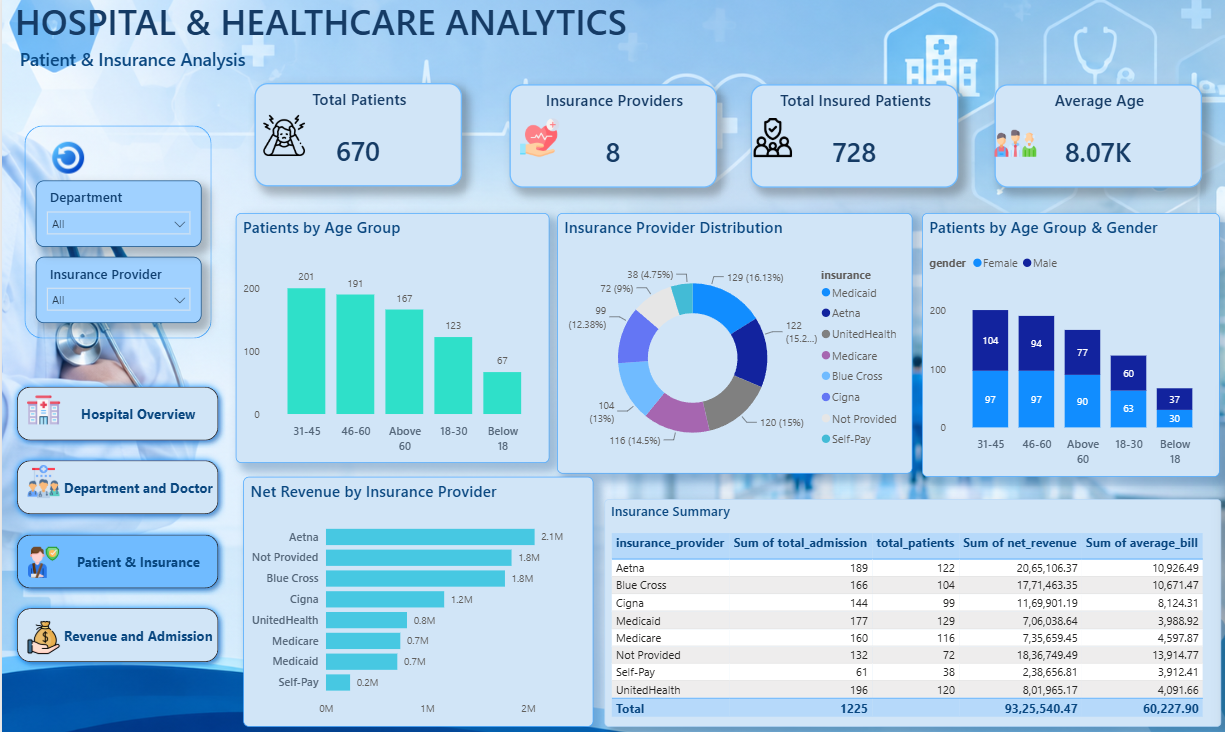

Layout of this report page (visuals, bound fields, positions):
{"tool":"powerbi","page":{"name":"Patient & Insurance","canvas":[1480,900],"ordinal":2},"visuals":[{"type":"shape","box":[27.1,160,225.7,257.1],"z":0},{"type":"textbox","box":[10.6,0,754.5,85],"z":1000},{"type":"textbox","box":[10.6,60.6,293.9,48.5],"z":2000},{"type":"cardVisual","title":"Total Patients","fields":{"Data":["hospital_overview admission.Total Patients"]},"box":[304.5,109.1,250,125],"z":3000},{"type":"cardVisual","title":"Insurance Providers","fields":{"Data":["hospital_overview admission.Total Insurance Providers"]},"box":[612.1,110.6,250,125],"z":4000},{"type":"cardVisual","title":"Total Insured Patients","fields":{"Data":["hospital_overview admission.Insured Patients"]},"box":[903,110.6,250,125],"z":5000},{"type":"cardVisual","title":"Average Age","fields":{"Data":["hospital_overview admission.Average Bill"]},"box":[1197,110.6,250,125],"z":6000},{"type":"clusteredColumnChart","title":"Patients by Age Group","fields":{"Category":["hospital_overview age_group.age_group"],"Y":["Sum(hospital_overview age_group.total_patients)"]},"box":[281.4,265.7,378.8,301.5],"z":7000},{"type":"donutChart","title":"Insurance Provider Distribution","fields":{"Category":["hospital_overview insurance_by_patients.insurance"],"Y":["Sum(hospital_overview insurance_by_patients.total_patients)"]},"box":[669.7,265.2,428.8,314],"z":8000},{"type":"columnChart","title":"\tPatients by Age Group & Gender","fields":{"Category":["hospital_overview age_group_and_gender.age_group"],"Y":["Sum(hospital_overview age_group_and_gender.total_patients)"],"Series":["hospital_overview age_group_and_gender.gender"]},"box":[1110.6,265.2,359.1,318.2],"z":9000},{"type":"barChart","title":"\tNet Revenue by Insurance Provider","fields":{"Category":["hospital_overview revenue_by_insurance.insurance"],"Y":["Sum(hospital_overview revenue_by_insurance.net_revenue)"]},"box":[291.4,584.3,422.7,301.5],"z":10000},{"type":"tableEx","title":"Insurance Summary","fields":{"Values":["hospital_overview insurance_details.insurance_provider","Sum(hospital_overview insurance_details.total_admission)","hospital_overview insurance_details.total_patients","Sum(hospital_overview insurance_details.net_revenue)","Sum(hospital_overview insurance_details.average_bill)"]},"box":[727.1,611.4,743.9,274.2],"z":11000},{"type":"pageNavigator","box":[8.6,465.7,261.4,350],"z":12000},{"type":"image","box":[315.2,147,50,51.5],"z":13000},{"type":"image","box":[612.1,151.5,72.7,47],"z":14000},{"type":"image","box":[886.4,151.5,86.4,47],"z":15000},{"type":"image","box":[1197,151.5,50,60.6],"z":16000},{"type":"slicer","fields":{"Values":["hospital_overview patient.insurance"]},"box":[40,318.6,200,80],"z":17000},{"type":"slicer","fields":{"Values":["hospital_overview admission.dept"]},"box":[40,225.7,200,80],"z":18000},{"type":"image","box":[30,475.7,40,55.7],"z":19000},{"type":"image","box":[30,567.1,40,44.3],"z":20000},{"type":"image","box":[30,664.3,40,47.1],"z":21000},{"type":"image","box":[30,748.6,40,58.6],"z":22000},{"type":"image","box":[40,180,78.6,38.6],"z":23000}]}

Visuals, with their boxes in screenshot pixels (x1, y1, x2, y2), scaled from the page's 1480x900 canvas onto the 1225x732 screenshot:
shape: 22:130:209:339
textbox: 9:0:633:69
textbox: 9:49:252:89
"Total Patients" cardVisual: 252:89:459:190
"Insurance Providers" cardVisual: 507:90:714:192
"Total Insured Patients" cardVisual: 747:90:954:192
"Average Age" cardVisual: 991:90:1198:192
"Patients by Age Group" clusteredColumnChart: 233:216:546:461
"Insurance Provider Distribution" donutChart: 554:216:909:471
"	Patients by Age Group & Gender" columnChart: 919:216:1216:474
"	Net Revenue by Insurance Provider" barChart: 241:475:591:720
"Insurance Summary" tableEx: 602:497:1218:720
pageNavigator: 7:379:223:663
image: 261:120:302:161
image: 507:123:567:161
image: 734:123:805:161
image: 991:123:1032:173
slicer - hospital_overview patient.insurance: 33:259:199:324
slicer - hospital_overview admission.dept: 33:184:199:249
image: 25:387:58:432
image: 25:461:58:497
image: 25:540:58:579
image: 25:609:58:657
image: 33:146:98:178
